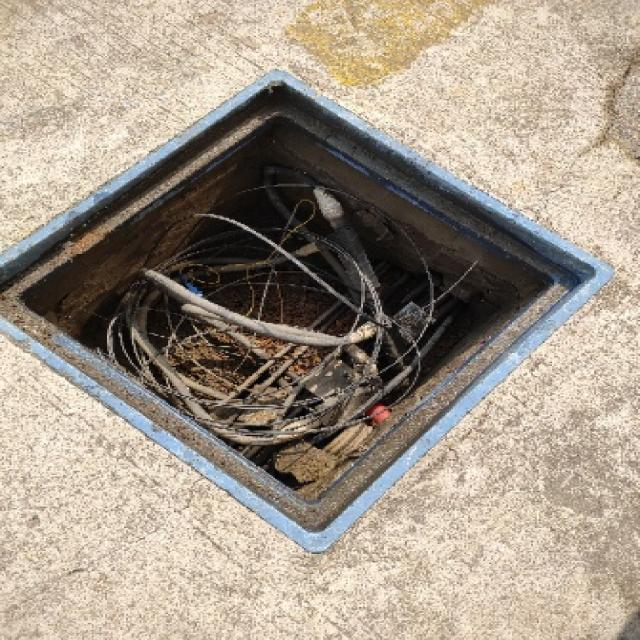Uncovered: (0, 69, 640, 566)
